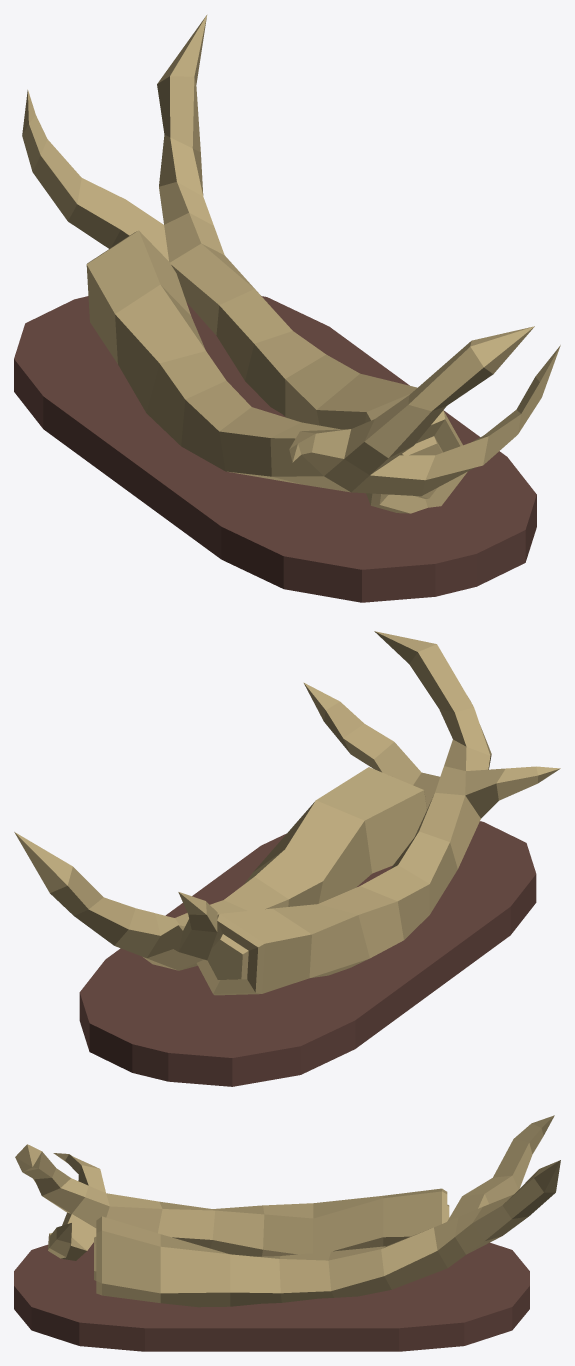
File: Wine holder (deer horns).fbx
3 views of the same model, one above another, from view 1: azimuth 30°, elevation 25°; view 2: azimuth 150°, elevation 25°; view 3: azimuth 270°, elevation 25° (orthographic). The views are drawn at different scales.
Visible parts, largest first — view 1: Cylinder.006; view 2: Cylinder.006; view 3: Cylinder.006.
Boxes of the visible parts, box(x1,y1,x2,y2) form: Cylinder.006: box(14, 14, 560, 602); Cylinder.006: box(14, 631, 560, 1086); Cylinder.006: box(14, 1115, 560, 1351).
Bounding box in the file's own units: 0.4002 × 0.3506 × 0.9203.
